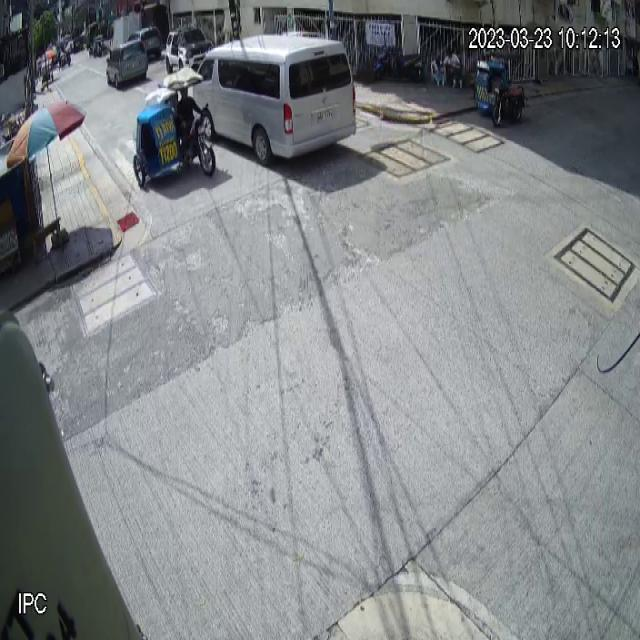Car: (192, 34, 357, 167)
Tricycle: (132, 66, 216, 190), (474, 51, 528, 127)
